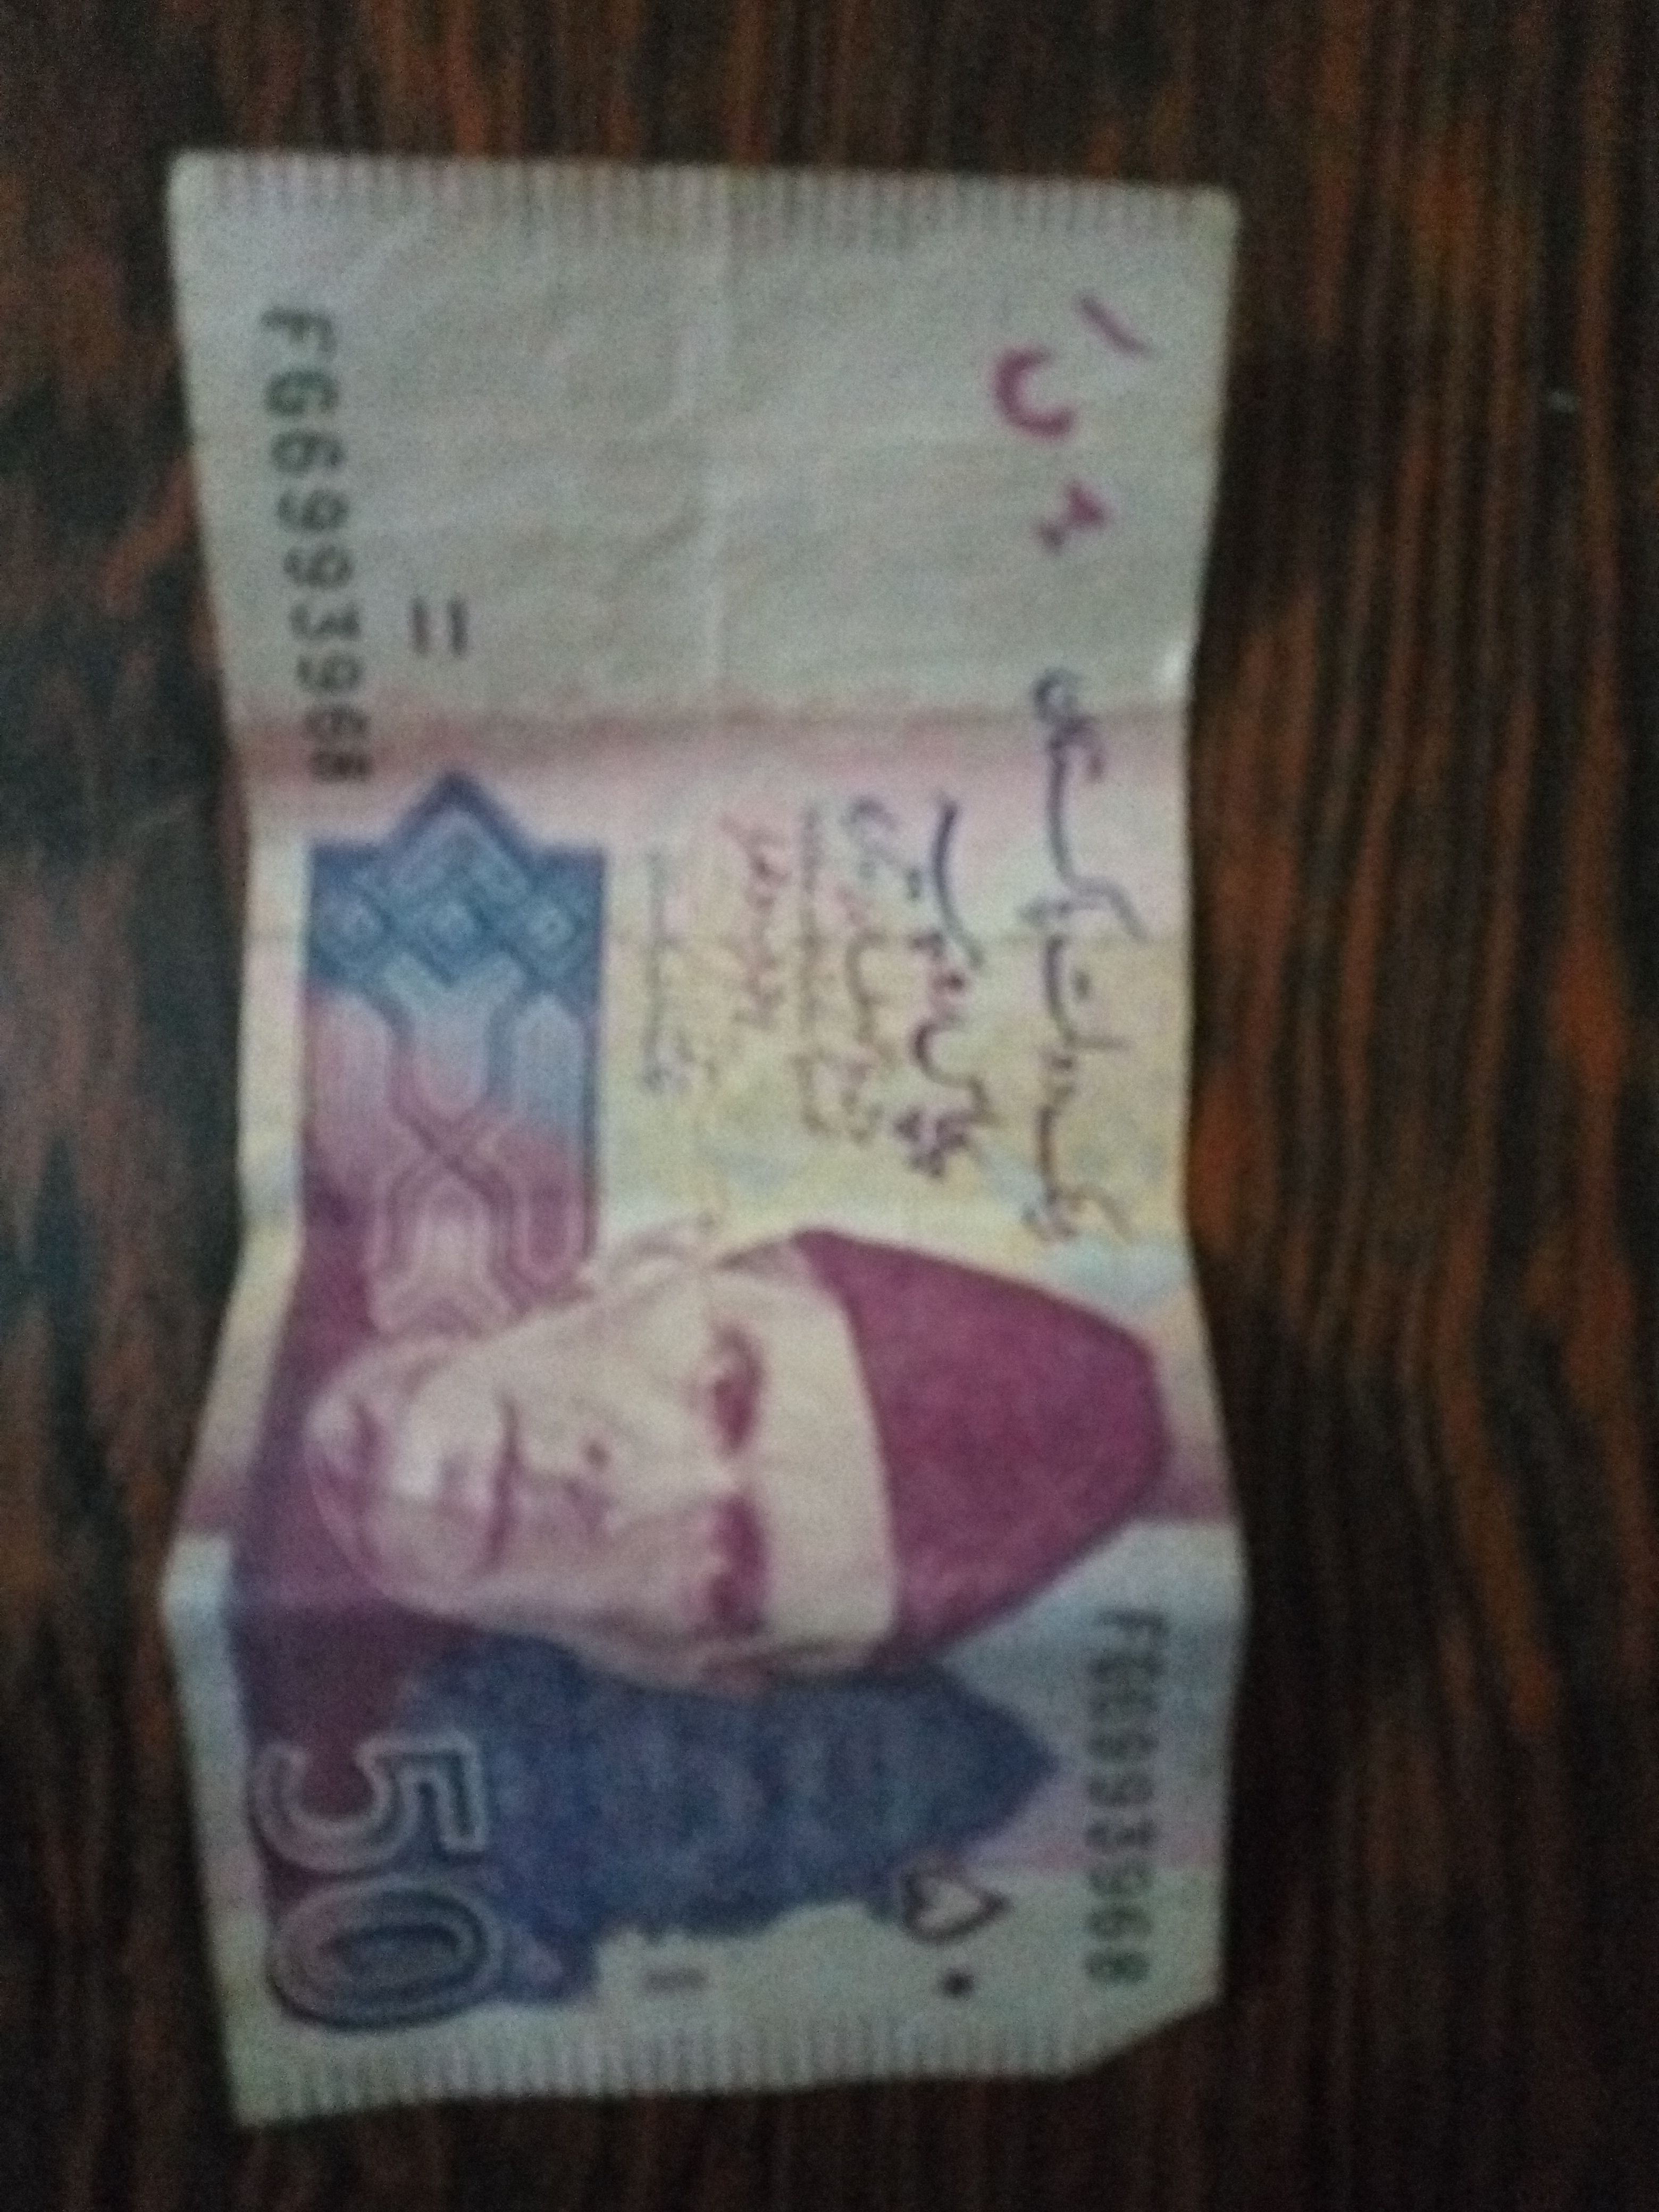50 rupee: (148, 160, 1220, 2071)
